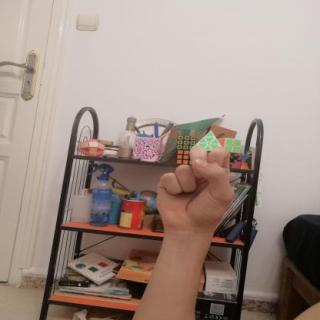QAAF: (145, 139, 248, 239)
